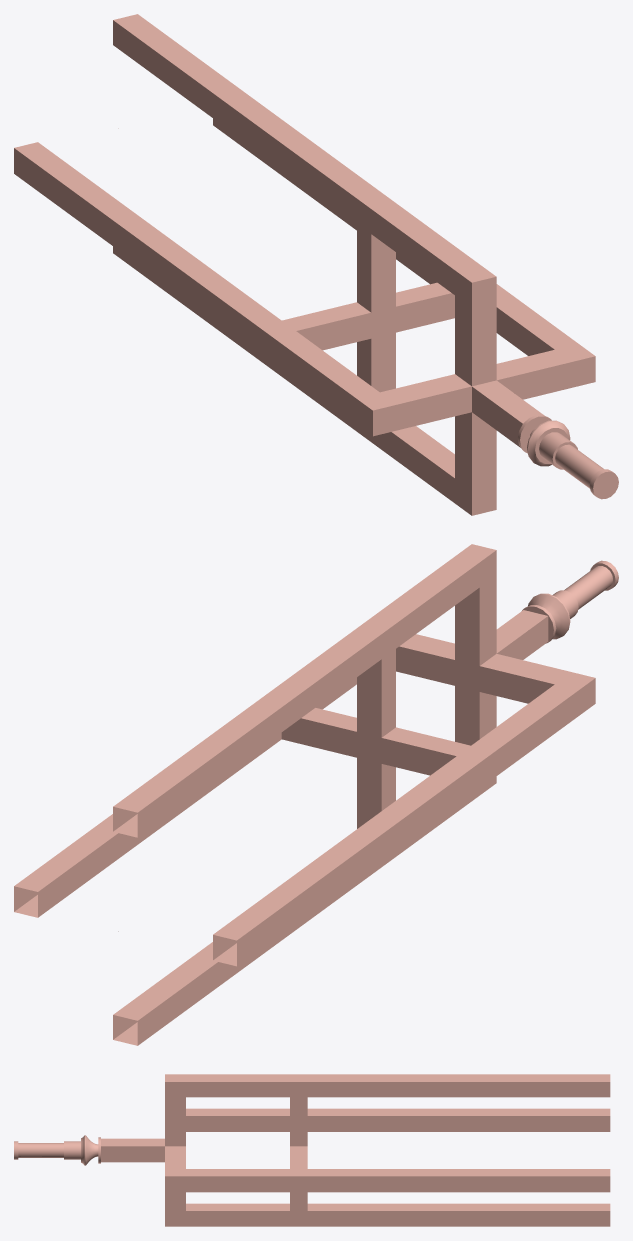
The model's file is MeshFloorLamp_13_0_GeomSubset_0.obj.
3 views of the same model, one above another, from view 1: azimuth 30°, elevation 25°; view 2: azimuth 150°, elevation 25°; view 3: azimuth 270°, elevation 25° (orthographic). The views are drawn at different scales.
Visible parts, largest first — view 1: MeshFloorLamp_13_0_GeomSubset_0; view 2: MeshFloorLamp_13_0_GeomSubset_0; view 3: MeshFloorLamp_13_0_GeomSubset_0.
Boxes of the visible parts, x1,y1,x2,y2 form: MeshFloorLamp_13_0_GeomSubset_0: (14,14,618,515); MeshFloorLamp_13_0_GeomSubset_0: (14,544,618,1045); MeshFloorLamp_13_0_GeomSubset_0: (14,1074,610,1226).
Bounding box in the file's own units: 0.4278 × 0.4278 × 1.62.
